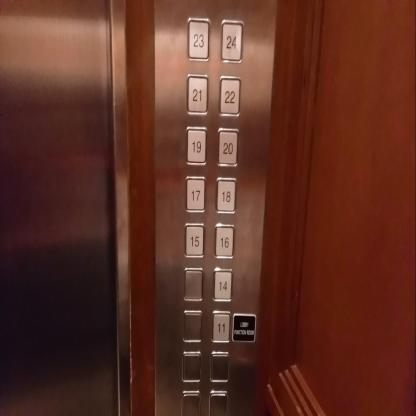11: (211, 310, 231, 344)
14: (212, 266, 233, 302)
15: (184, 221, 205, 259)
16: (214, 222, 234, 260)
17: (185, 175, 206, 213)
18: (215, 176, 236, 213)
19: (185, 124, 207, 166)
20: (217, 126, 239, 166)
21: (186, 72, 209, 115)
22: (219, 76, 240, 116)
23: (186, 16, 210, 62)
24: (221, 19, 243, 64)
empty: (183, 265, 204, 302), (182, 309, 203, 343), (182, 350, 202, 383), (210, 350, 229, 383), (181, 389, 201, 415), (208, 389, 228, 415)
